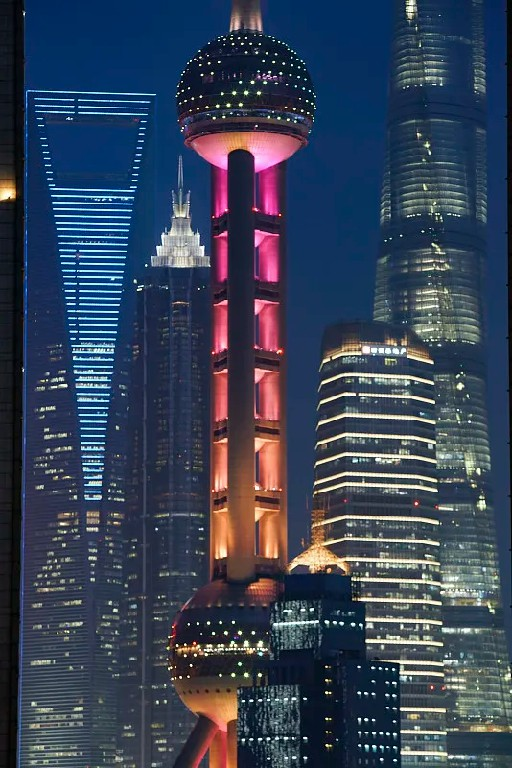Oriental: (167, 5, 319, 768)
